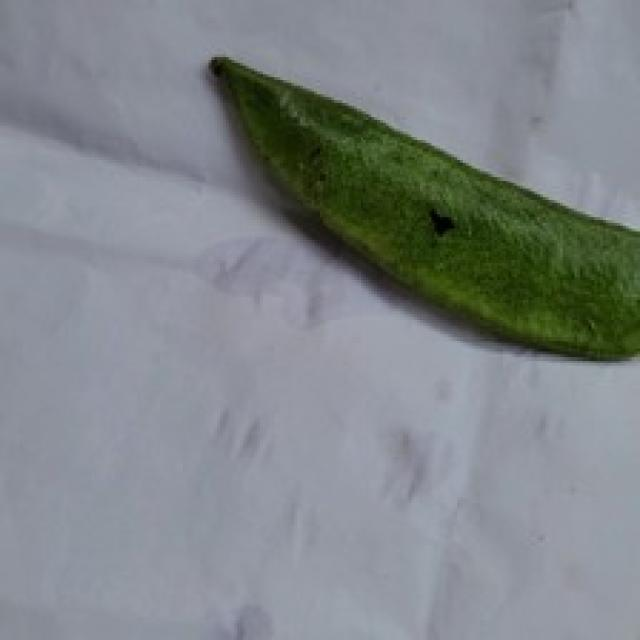Bean: (206, 51, 637, 363)
